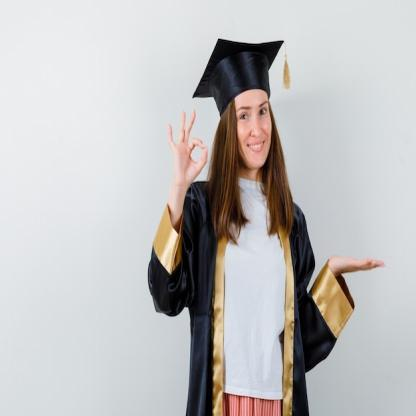ok: (166, 107, 210, 188)
